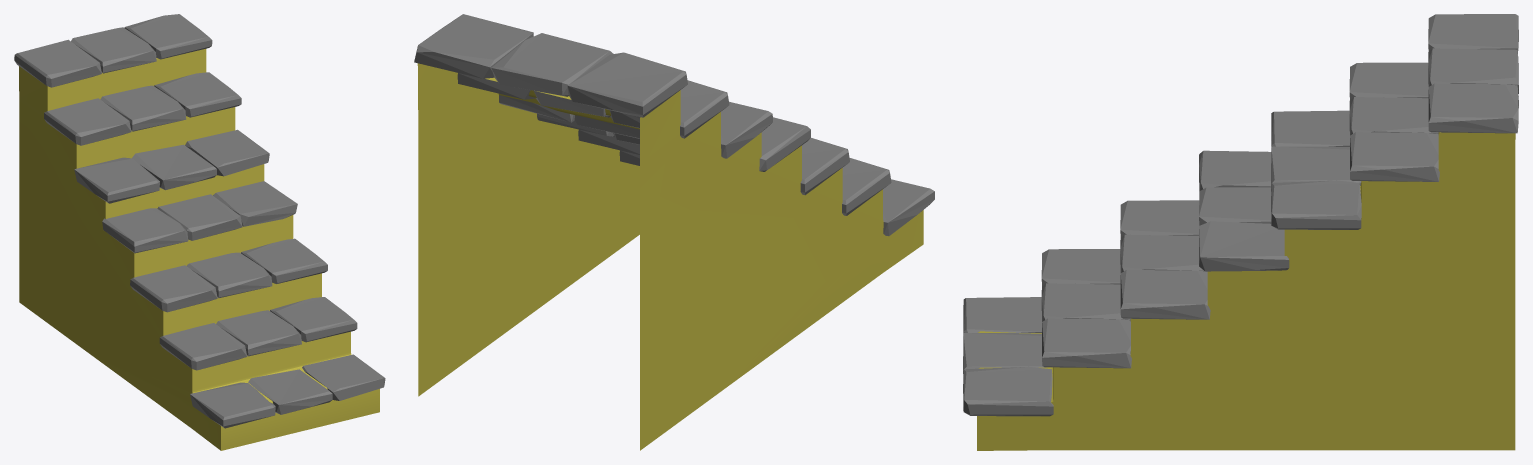
Rendered from SM_staircase_03.fbx.
The picture shows the model from 3 angles, left to right: view 1: azimuth 30°, elevation 25°; view 2: azimuth 150°, elevation 25°; view 3: azimuth 270°, elevation 25°; orthographic projection. The views are drawn at different scales.
Visible parts, largest first — view 1: Object32388; view 2: Object32388; view 3: Object32388.
Boxes of the visible parts, x1,y1,x2,y2 form: Object32388: (14,14,385,450); Object32388: (414,14,934,450); Object32388: (963,14,1518,450).
Size of the model in its own units: 64.59 by 94.33 by 142.
